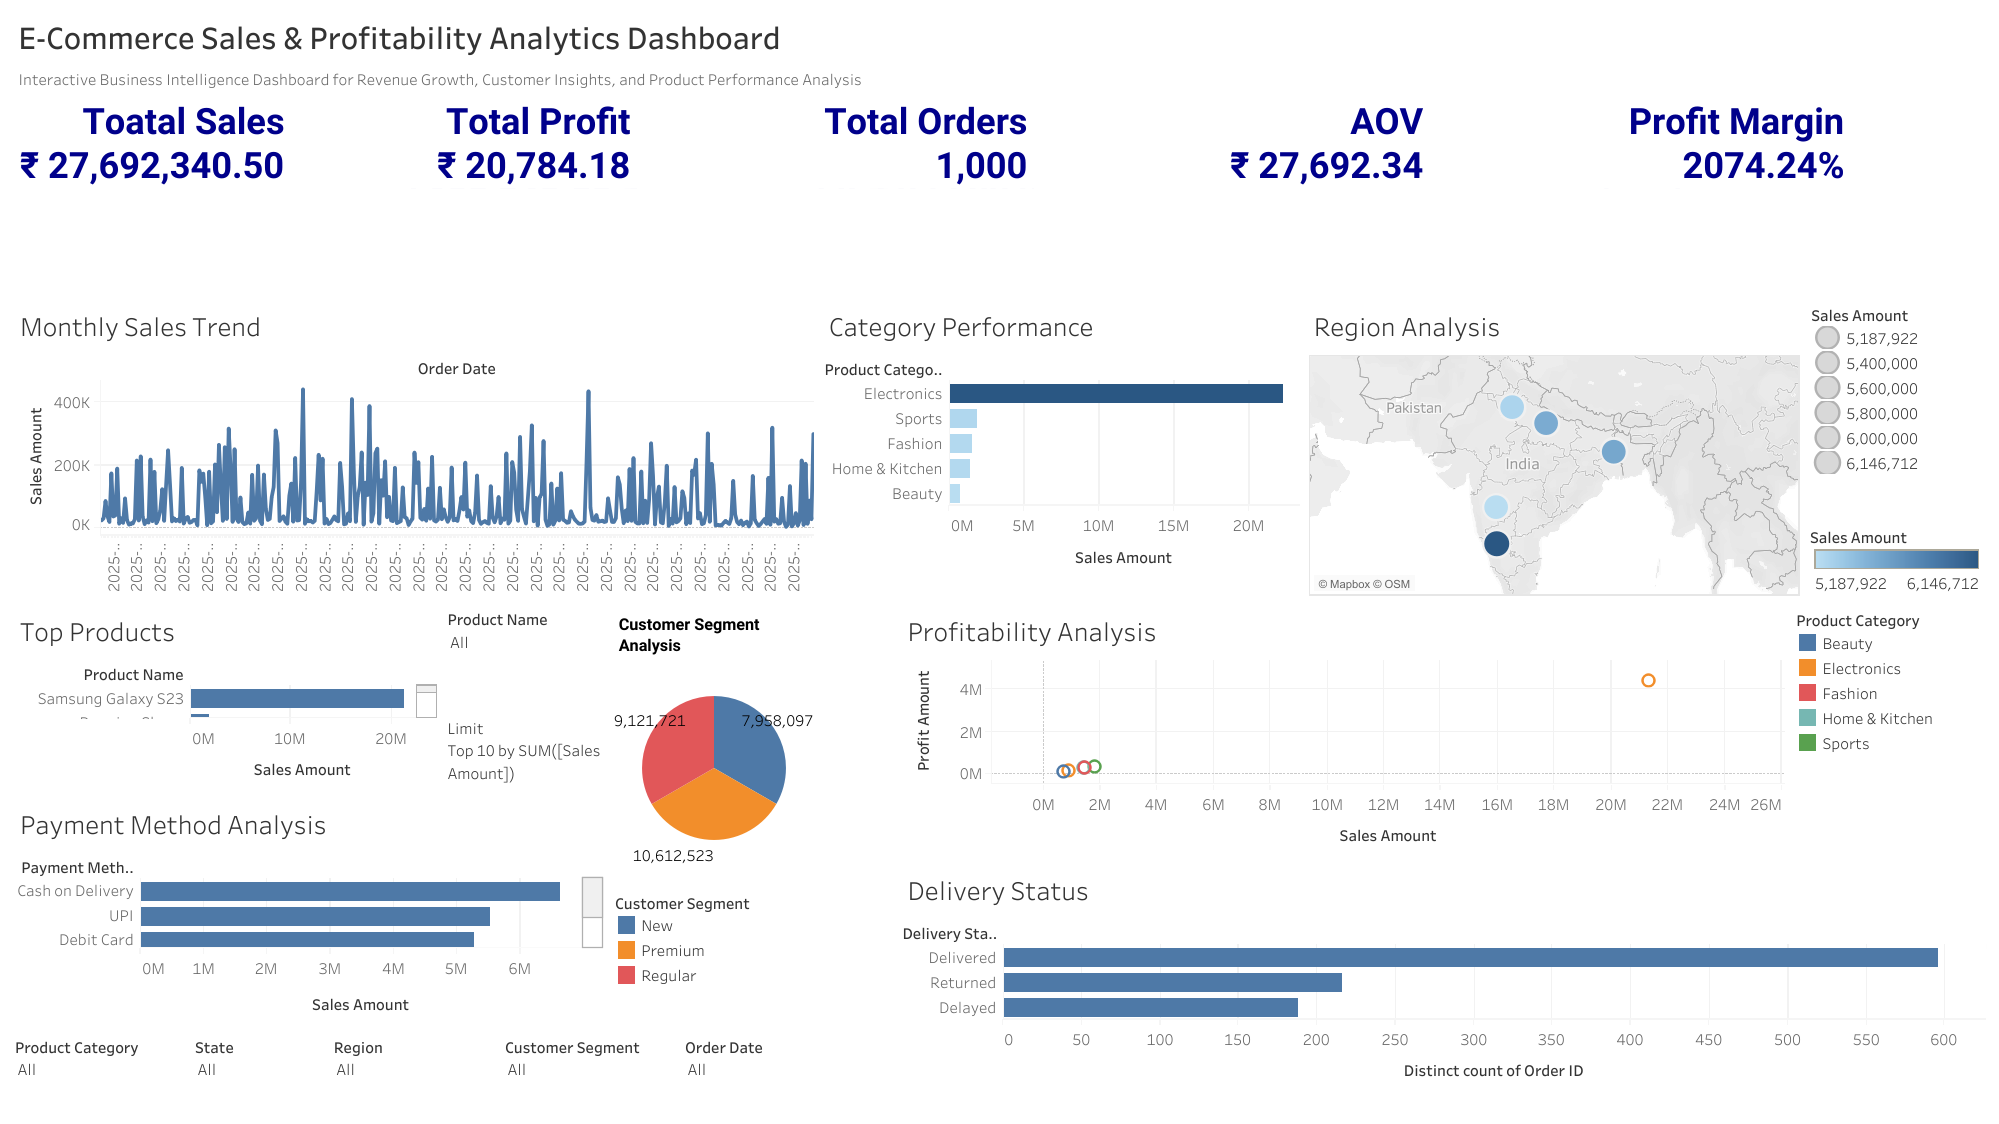

This screenshot's page, from the dashboard's own definition file:
{"tool":"tableau","page":{"name":"Dashboard 1","canvas":[1600,900],"ordinal":0},"visuals":[{"type":"title","box":[8,8,1584,49]},{"type":"text","box":[8,57,1584,29]},{"type":"worksheet","title":"KPI Sales","mark":"Automatic","box":[8,86,317,161]},{"type":"worksheet","title":"KPI Profit","mark":"Automatic","box":[325,86,317,161]},{"type":"worksheet","title":"KPI Orders","mark":"Automatic","box":[642,86,317,161]},{"type":"worksheet","title":"KPI AOV","mark":"Automatic","box":[959,86,317,161]},{"type":"worksheet","title":"KPI Margins","mark":"Automatic","box":[1276,86,316,161]},{"type":"worksheet","title":"Monthly Sales Trend","mark":"Line","rows":["Sales Amount"],"cols":["Order Date"],"box":[8,247,647,239.2]},{"type":"worksheet","title":"Category Performance","mark":"Automatic","rows":["Product Category"],"cols":["Sales Amount"],"box":[655,247,388,239.2]},{"type":"worksheet","title":"Region Analysis","mark":"Automatic","box":[1043,247,401.4,239.2]},{"type":"legend","title":"Region Analysis","param":"[federated.0b9dkxh0w3noux1d3wcgw07k9qqx].[sum:Sales Amount:qk]","box":[1444.4,247,147.6,175]},{"type":"legend","title":"Region Analysis","param":"[federated.0b9dkxh0w3noux1d3wcgw07k9qqx].[sum:Sales Amount:qk]","box":[1444.4,422,147.6,64.2]},{"type":"worksheet","title":"Top Products","mark":"Automatic","rows":["Product Name"],"cols":["Sales Amount"],"box":[8,486.3,346,152.3]},{"type":"filter","title":"Top Products","param":"[federated.0b9dkxh0w3noux1d3wcgw07k9qqx].[none:Product Name:nk]","box":[354,486.3,133,152.3]},{"type":"worksheet","title":"Customer Segment Analysis","mark":"Pie","box":[487,486.3,231,223.4]},{"type":"worksheet","title":"Profitability Analysis","mark":"Automatic","rows":["Profit Amount"],"cols":["Sales Amount"],"box":[718,486.3,714,204.2]},{"type":"legend","title":"Profitability Analysis","param":"[federated.0b9dkxh0w3noux1d3wcgw07k9qqx].[none:Product Category:nk]","box":[1432,486.3,160,204.2]},{"type":"worksheet","title":"Payment Method Analysis","mark":"Bar","rows":["Payment Method"],"cols":["Sales Amount"],"box":[8,638.5,479,185.1]},{"type":"worksheet","title":"Delivery Status","mark":"Automatic","rows":["Delivery Status"],"cols":["Order ID"],"box":[718,690.5,874,201.5]},{"type":"legend","title":"Customer Segment Analysis","param":"[federated.0b9dkxh0w3noux1d3wcgw07k9qqx].[none:Customer Segment:nk]","box":[487,709.6,231,114]},{"type":"filter","title":"Delivery Status","param":"[federated.0b9dkxh0w3noux1d3wcgw07k9qqx].[none:Product Category:nk]","box":[8,823.6,144,68.4]},{"type":"filter","title":"Delivery Status","param":"[federated.0b9dkxh0w3noux1d3wcgw07k9qqx].[none:State:nk]","box":[152,823.6,111,68.4]},{"type":"filter","title":"Delivery Status","param":"[federated.0b9dkxh0w3noux1d3wcgw07k9qqx].[none:Region:nk]","box":[263,823.6,137,68.4]},{"type":"filter","title":"Delivery Status","param":"[federated.0b9dkxh0w3noux1d3wcgw07k9qqx].[none:Customer Segment:nk]","box":[400,823.6,144,68.4]},{"type":"filter","title":"Delivery Status","param":"[federated.0b9dkxh0w3noux1d3wcgw07k9qqx].[none:Order Date:nk]","box":[544,823.6,174,68.4]}]}

Visuals, with their boxes in screenshot pixels (x1, y1, x2, y2), scaled from the page's 1600x900 canvas onto the 1999x1124 screenshot:
title: 10:10:1989:71
text: 10:71:1989:107
"KPI Sales" worksheet: 10:107:406:308
"KPI Profit" worksheet: 406:107:802:308
"KPI Orders" worksheet: 802:107:1198:308
"KPI AOV" worksheet: 1198:107:1594:308
"KPI Margins" worksheet: 1594:107:1989:308
"Monthly Sales Trend" worksheet (Line marks): 10:308:818:607
"Category Performance" worksheet: 818:308:1303:607
"Region Analysis" worksheet: 1303:308:1805:607
"Region Analysis" legend: 1805:308:1989:527
"Region Analysis" legend: 1805:527:1989:607
"Top Products" worksheet: 10:607:442:798
"Top Products" filter: 442:607:608:798
"Customer Segment Analysis" worksheet (Pie marks): 608:607:897:886
"Profitability Analysis" worksheet: 897:607:1789:862
"Profitability Analysis" legend: 1789:607:1989:862
"Payment Method Analysis" worksheet (Bar marks): 10:797:608:1029
"Delivery Status" worksheet: 897:862:1989:1114
"Customer Segment Analysis" legend: 608:886:897:1029
"Delivery Status" filter: 10:1029:190:1114
"Delivery Status" filter: 190:1029:329:1114
"Delivery Status" filter: 329:1029:500:1114
"Delivery Status" filter: 500:1029:680:1114
"Delivery Status" filter: 680:1029:897:1114
